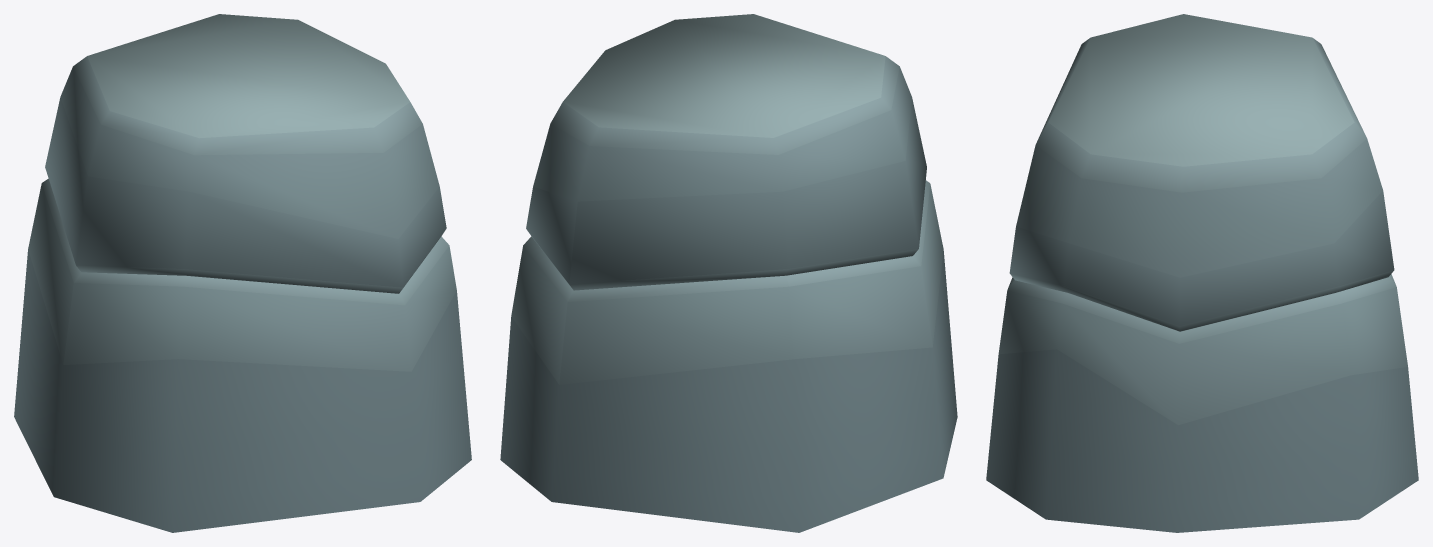
File: rockLarge.glb
3 views of the same model, side by side, from view 1: azimuth 30°, elevation 25°; view 2: azimuth 150°, elevation 25°; view 3: azimuth 270°, elevation 25° (orthographic).
Visible parts, largest first — view 1: rockLarge; view 2: rockLarge; view 3: rockLarge.
Boxes of the visible parts, bbox=[...] form: rockLarge: bbox=[14, 14, 471, 532]; rockLarge: bbox=[500, 14, 957, 532]; rockLarge: bbox=[986, 14, 1418, 532].
Size of the model in its own units: 1 by 0.9299 by 1.
Materials: 1 (1 with a texture image).
